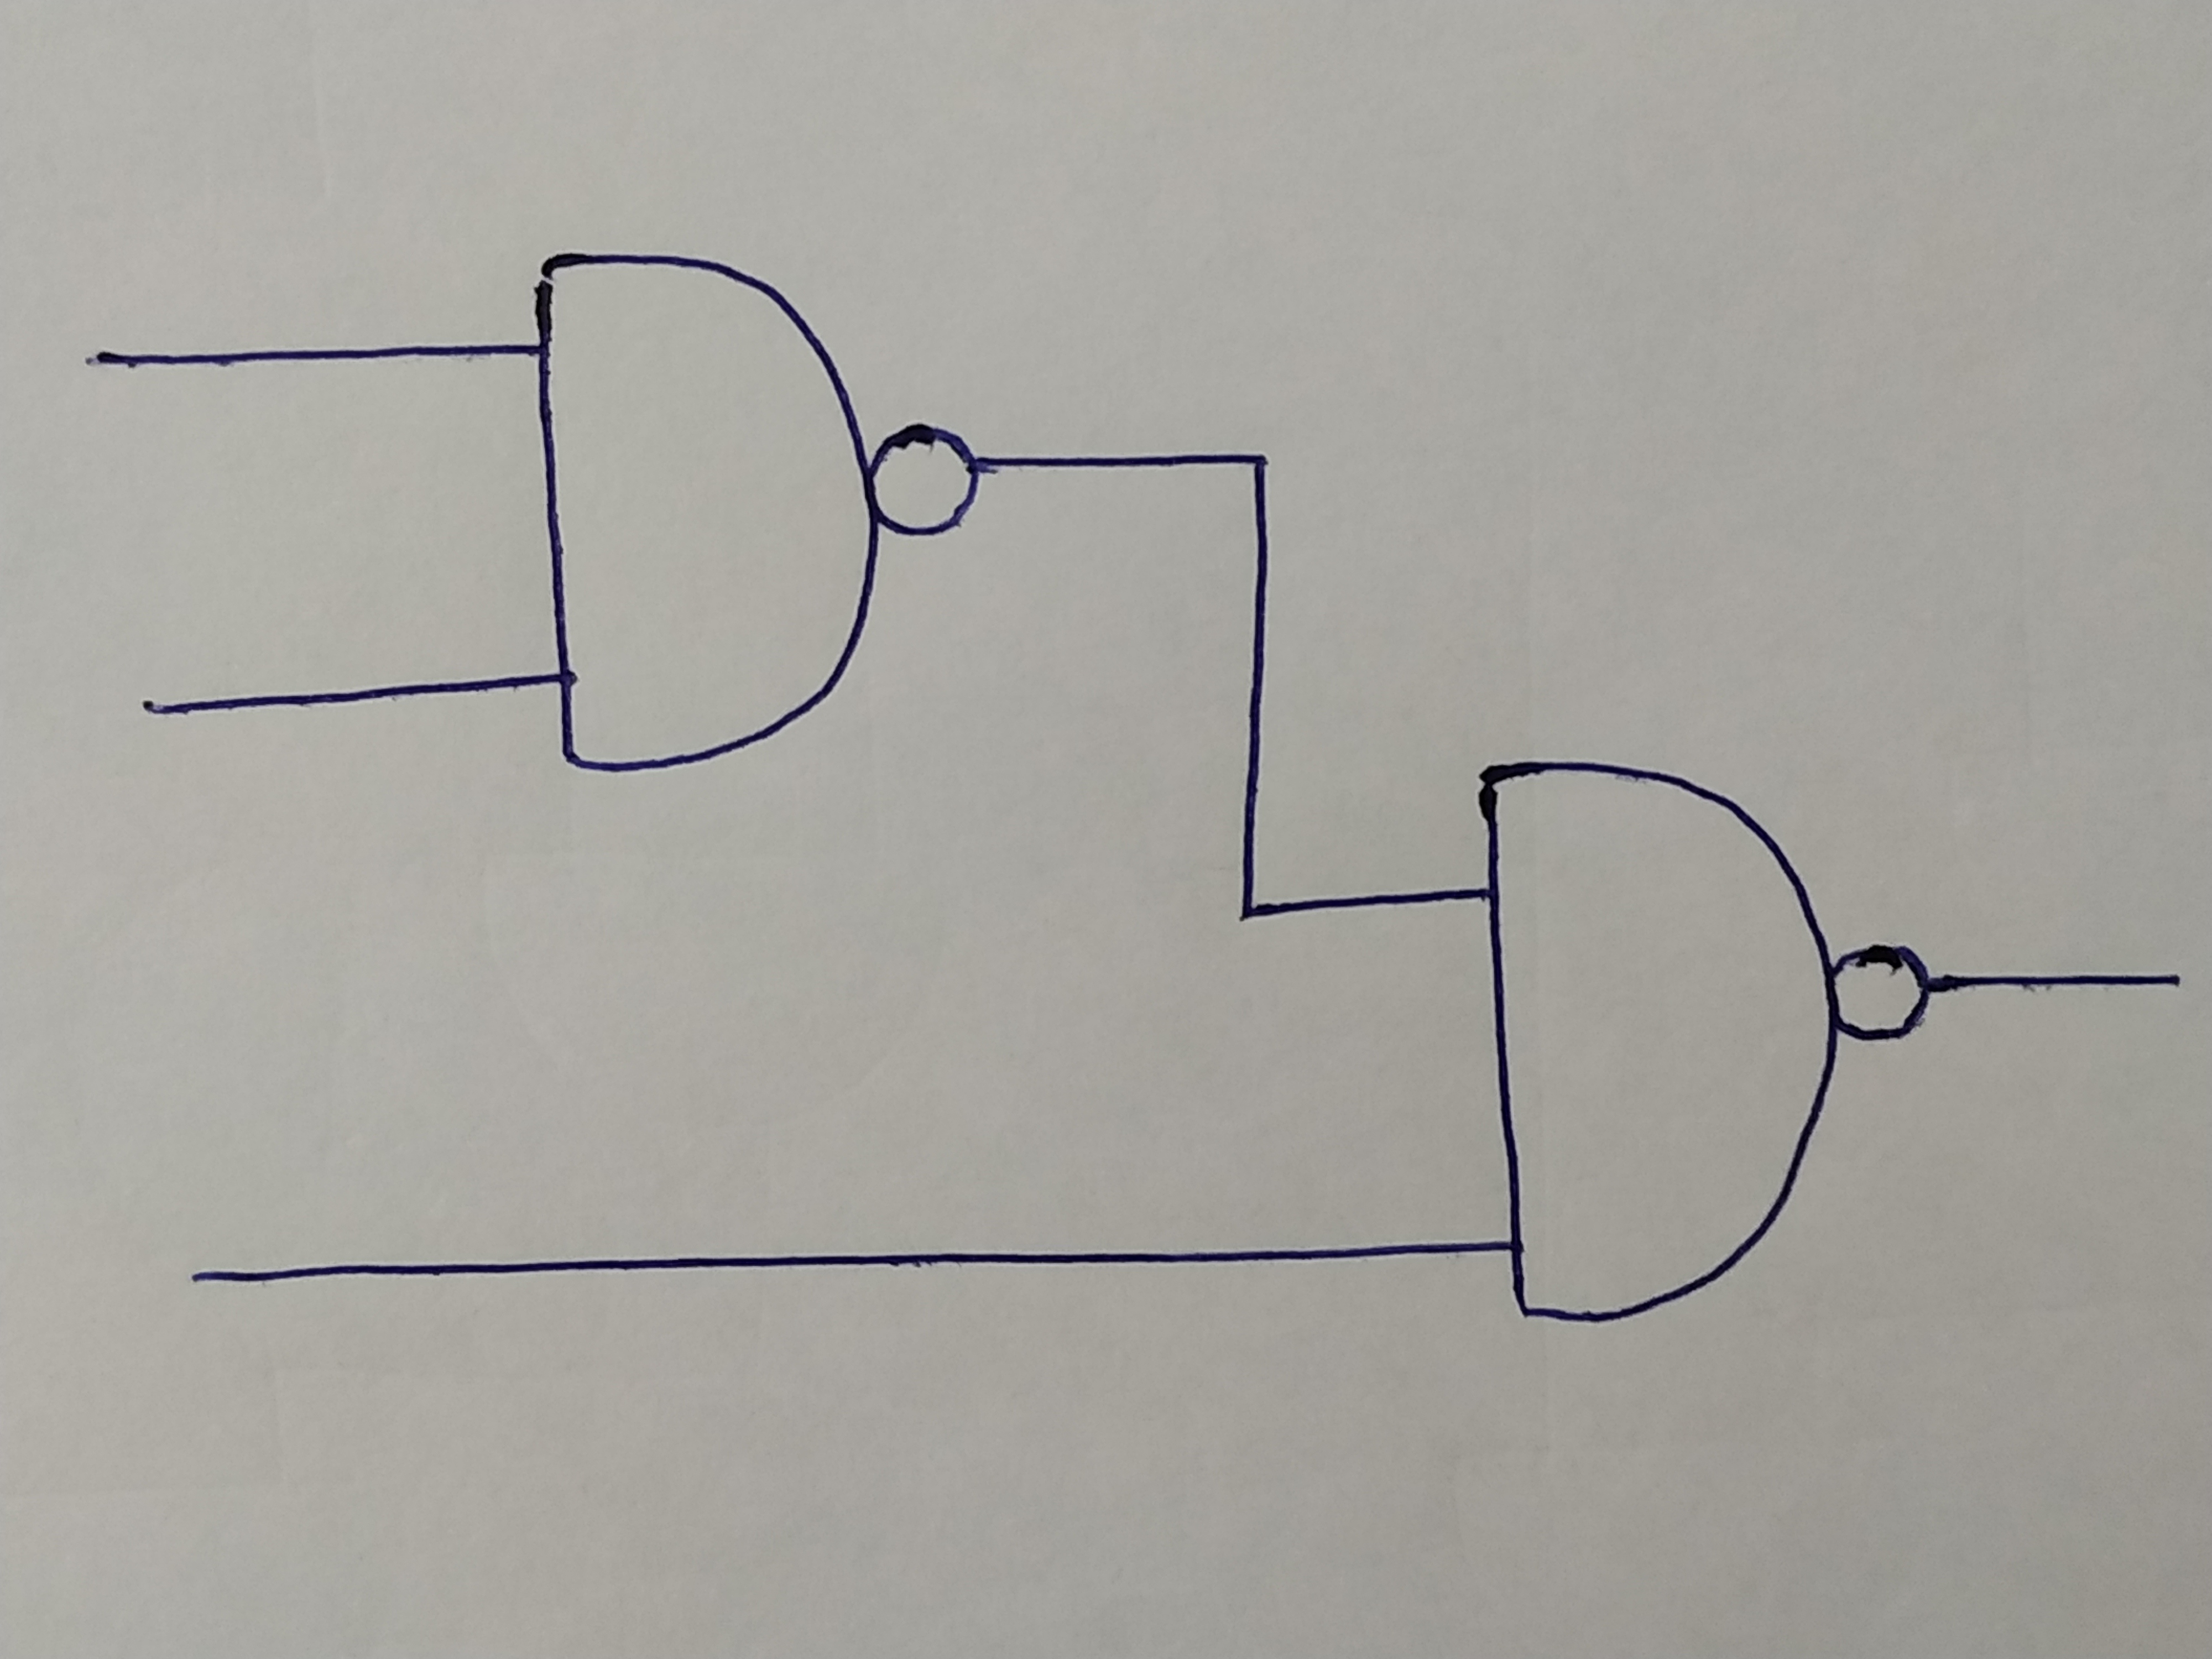and: (1472, 758, 1832, 1323), (535, 253, 869, 772)
not: (867, 423, 981, 537), (1834, 946, 1926, 1044)
